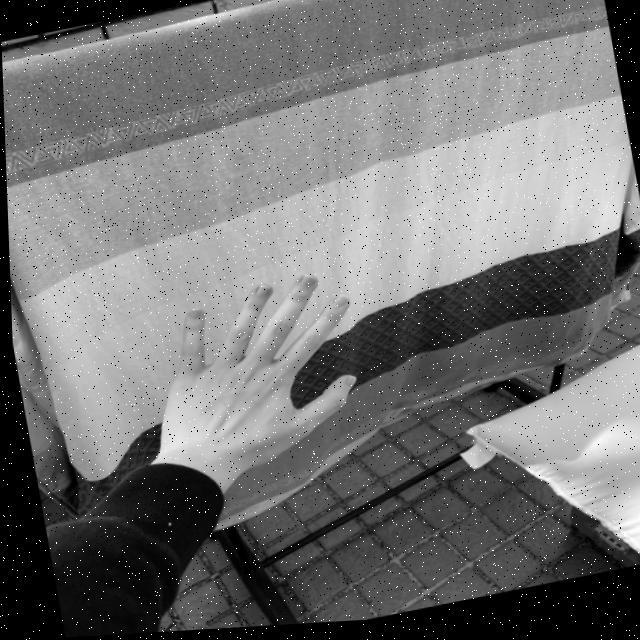no-gloves: (132, 265, 378, 488)
